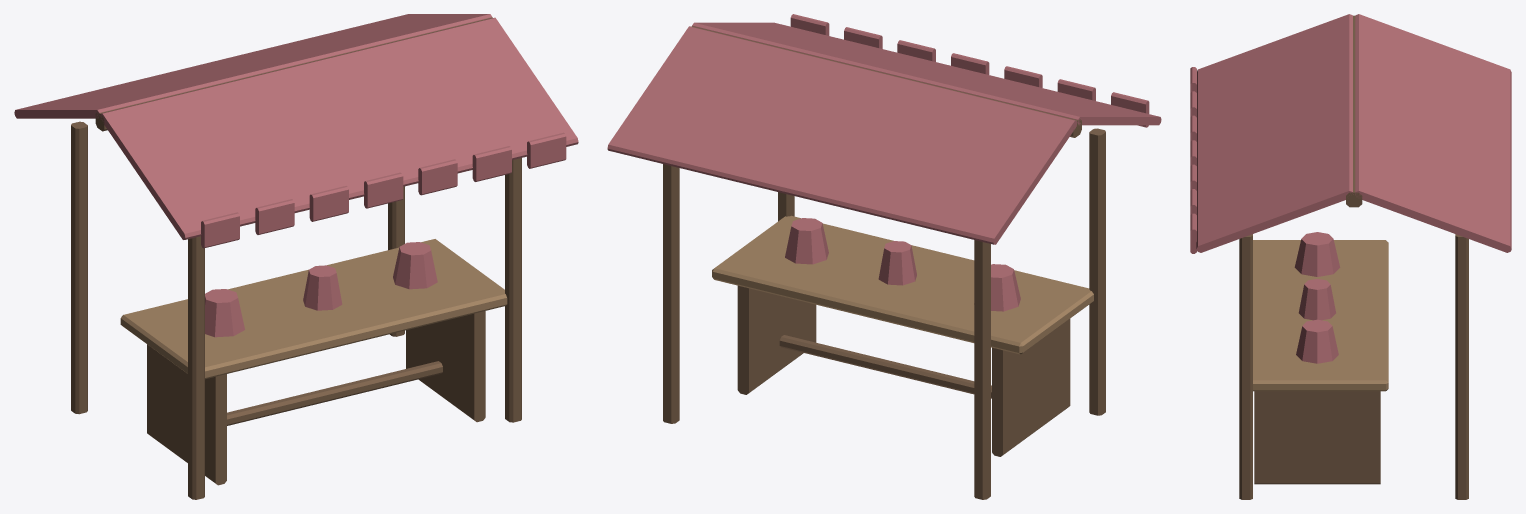
The model's file is market_stall.glb.
3 renders of one model, left to right at view 1: azimuth 30°, elevation 25°; view 2: azimuth 150°, elevation 25°; view 3: azimuth 270°, elevation 25°, orthographic. The views are drawn at different scales.
Visible parts, largest first — view 1: market_stall; view 2: market_stall; view 3: market_stall.
Boxes of the visible parts, bbox=[...] form: market_stall: bbox=[14, 14, 578, 499]; market_stall: bbox=[607, 14, 1161, 499]; market_stall: bbox=[1190, 14, 1511, 499].
Size of the model in its own units: 3.1 by 2.64 by 2.38.
